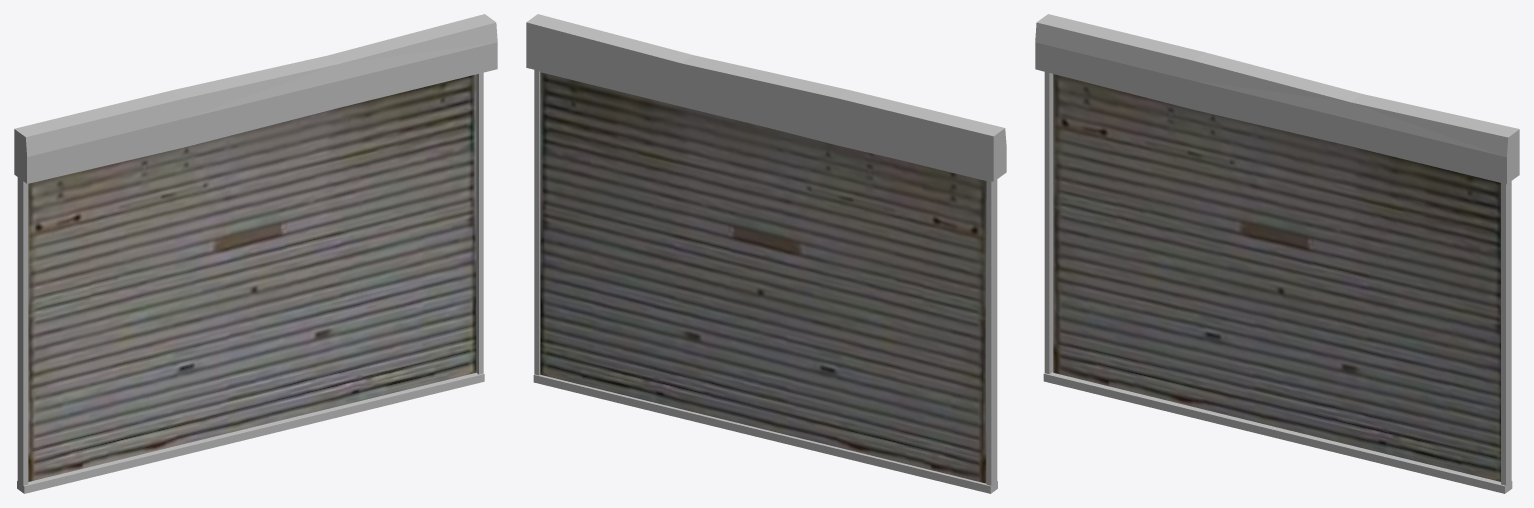
File: MobBil_shutter01.fbx
3 views of the same model, side by side, from view 1: azimuth 30°, elevation 25°; view 2: azimuth 150°, elevation 25°; view 3: azimuth 330°, elevation 25° (orthographic).
Parts seen in each view (by area): view 1: MobBil_shutter01; view 2: MobBil_shutter01; view 3: MobBil_shutter01.
Boxes of the visible parts, x1,y1,x2,y2 form: MobBil_shutter01: (14,14,497,493); MobBil_shutter01: (526,14,1006,493); MobBil_shutter01: (1035,14,1519,493).
Size of the model in its own units: 4.21 by 3.08 by 0.2023.
